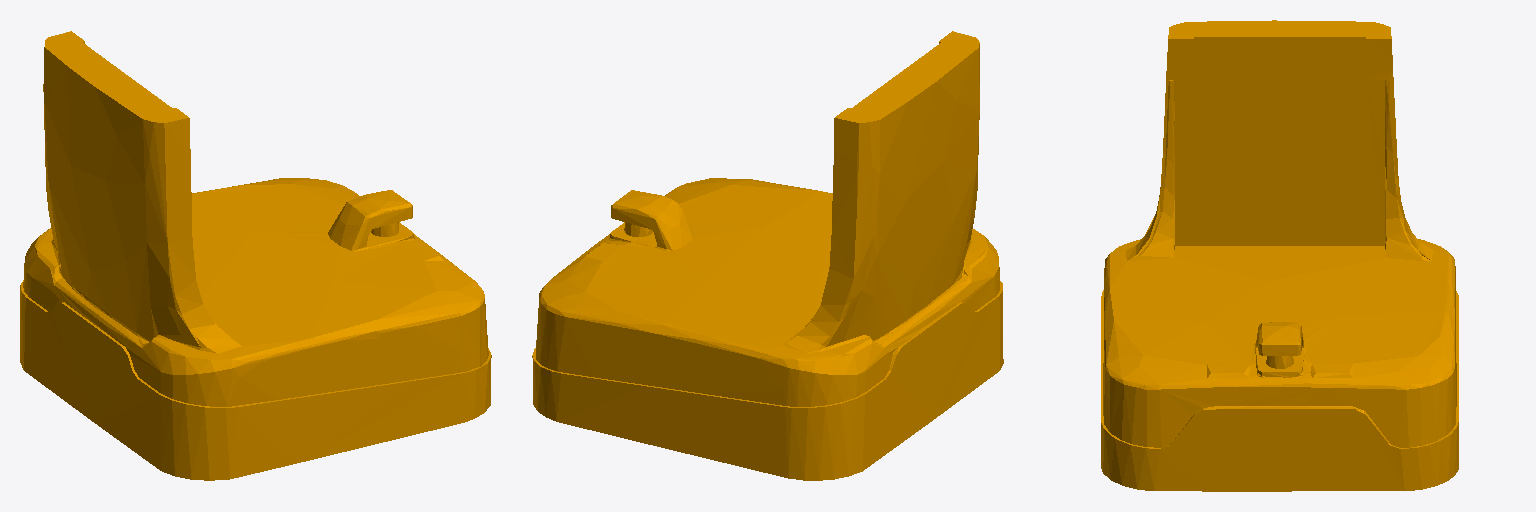
robot.urdf — test_robot:
<?xml version="1.0" ?>
<robot name="test_robot" xmlns:xacro="http://www.ros.org/wiki/xacro">
<link name="test_robot_link">
    <visual>
        <origin rpy="0 0 0" xyz="0 0 0"/>
        <geometry>
            <mesh filename="package://rviz_rendering_tests/test_meshes/pr2-base.dae"/>
        </geometry>
    </visual>
</link>
</robot>

--- Render facts (derived) ---
Views: 3 orthographic renders of the robot side by side, from view 1: azimuth 30°, elevation 25°; view 2: azimuth 150°, elevation 25°; view 3: azimuth 270°, elevation 25°.
Model test_robot with 1 links and 0 joints (none), rooted at test_robot_link, posed all joints at 0.
Links seen in each view (by area): view 1: test_robot_link; view 2: test_robot_link; view 3: test_robot_link.
Link boxes in pixels (<box>): test_robot_link: <box>20,31,491,480</box>; test_robot_link: <box>532,31,1003,480</box>; test_robot_link: <box>1101,20,1458,491</box>.
Bounding box of the posed robot: 0.6694 × 0.6668 × 0.6562 m (x, y, z).
Meshes: 1 distinct files referenced, 1 mesh visuals loaded (1 Collada DAE).